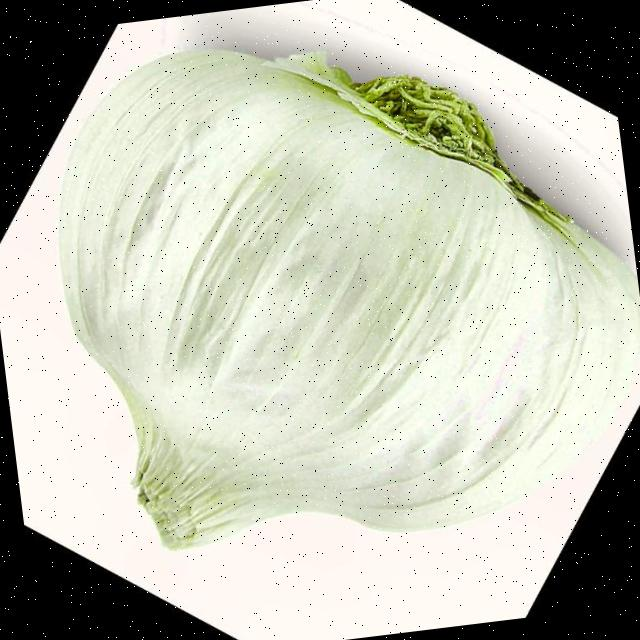garlic: (58, 49, 639, 548)
